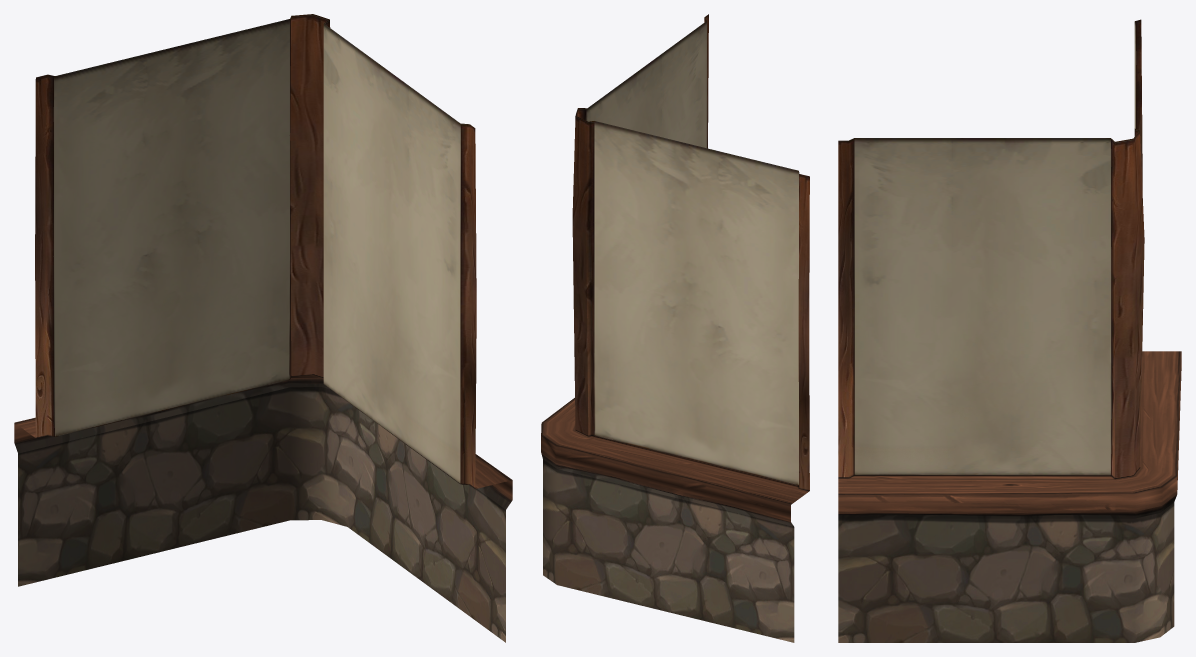
Rendered from Wall_2_Corner_Inverted.fbx.
3 views of the same model, side by side, from view 1: azimuth 30°, elevation 25°; view 2: azimuth 150°, elevation 25°; view 3: azimuth 270°, elevation 25° (orthographic). The views are drawn at different scales.
Parts seen in each view (by area): view 1: polySurface1; view 2: polySurface1; view 3: polySurface1.
Part boxes in pixels (x1,y1,x2,y2): polySurface1: (14,14,512,642); polySurface1: (541,14,809,642); polySurface1: (838,19,1181,642).
Size of the model in its own units: 6.12 by 9.7 by 6.18.
